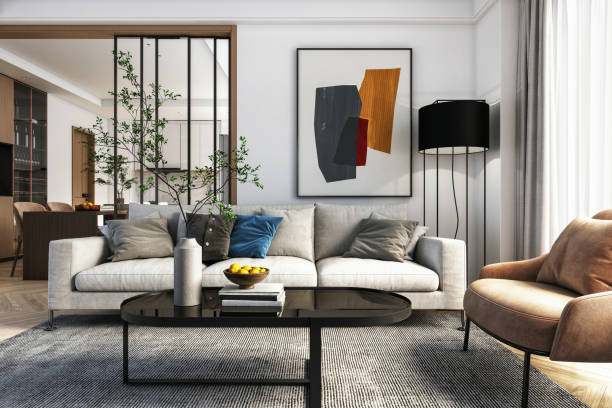chair: (460, 206, 612, 398)
dining table set: (8, 197, 101, 283)
floor lamp: (416, 94, 494, 240)
small plant: (92, 44, 262, 313)
sofa: (44, 201, 472, 328)
table: (118, 282, 413, 407)
wall art: (294, 44, 414, 200)
